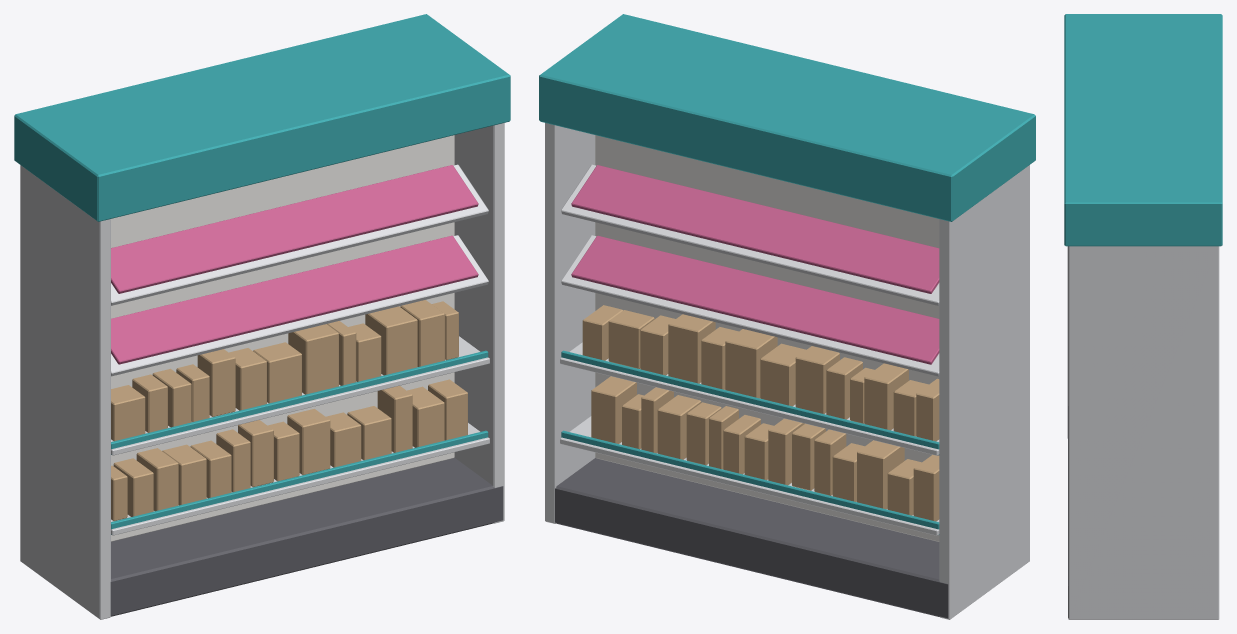
The model's file is motorway-services-and-truck-park-magazine-and-snack-go-2c9faa74__35940.glb.
3 views of the same model, side by side, from view 1: azimuth 30°, elevation 25°; view 2: azimuth 150°, elevation 25°; view 3: azimuth 270°, elevation 25° (orthographic). The views are drawn at different scales.
Parts seen in each view (by area): view 1: magazine-and-snack-gondola; view 2: magazine-and-snack-gondola; view 3: magazine-and-snack-gondola.
Boxes of the visible parts, box(x1,y1,x2,y2) form: magazine-and-snack-gondola: box(14, 14, 510, 619); magazine-and-snack-gondola: box(539, 14, 1035, 619); magazine-and-snack-gondola: box(1064, 14, 1222, 619).
Size of the model in its own units: 1.84 by 1.9 by 0.6501.
